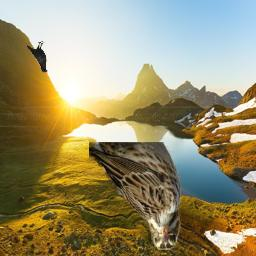Crow: (26, 41, 48, 73)
Sparrow: (89, 142, 182, 250)
